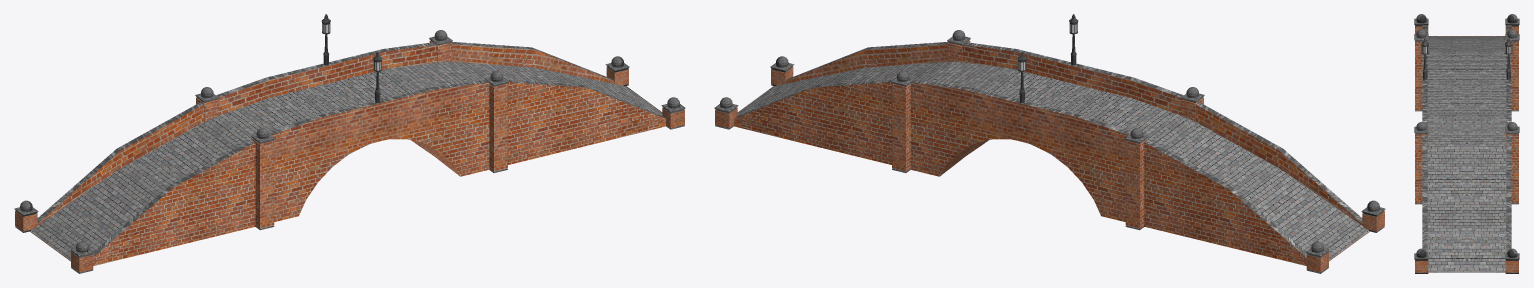
File: Bridge.fbx
The picture shows the model from 3 angles, left to right: view 1: azimuth 30°, elevation 25°; view 2: azimuth 150°, elevation 25°; view 3: azimuth 270°, elevation 25°; orthographic projection. The views are drawn at different scales.
Visible parts, largest first — view 1: Bridge_LOD0; view 2: Bridge_LOD0; view 3: Bridge_LOD0.
Boxes of the visible parts, x1,y1,x2,y2 form: Bridge_LOD0: [14, 14, 685, 273]; Bridge_LOD0: [714, 14, 1385, 273]; Bridge_LOD0: [1414, 14, 1519, 273].
Size of what is drawn, in the model's own units: 14224 by 3217 by 2629.
